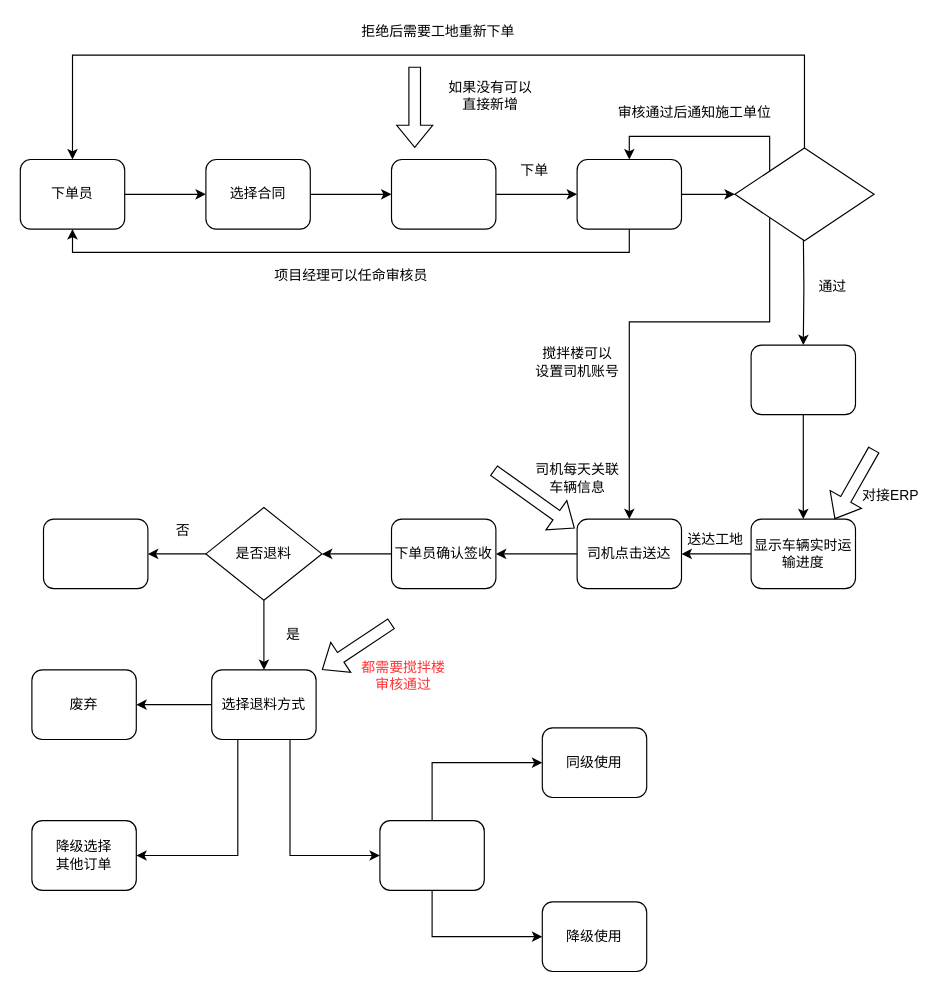
Image size: 945x992. Some labels were removed from this diagram. The shapes that lost their labels are listed below. From the top down, each one's box as (x1, y1, x2, y2) in pixels, then its label:
(390, 158, 496, 229): 选择强度等级
(576, 158, 682, 229): 项目经理审核
(734, 147, 874, 241): 搅拌楼审核
(750, 344, 855, 415): 将生产的小票号、车辆和订单关联
(42, 518, 148, 589): 收货/泵送
(379, 820, 484, 890): 转运到其他工地的订单上
